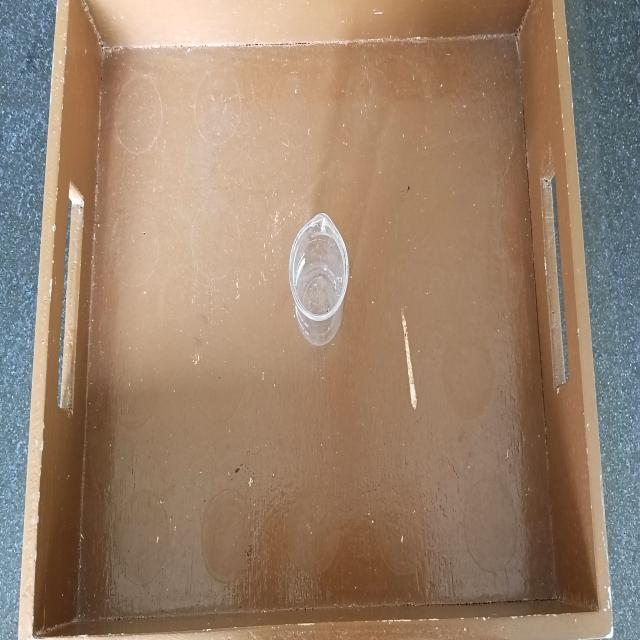beaker: (283, 202, 354, 356)
